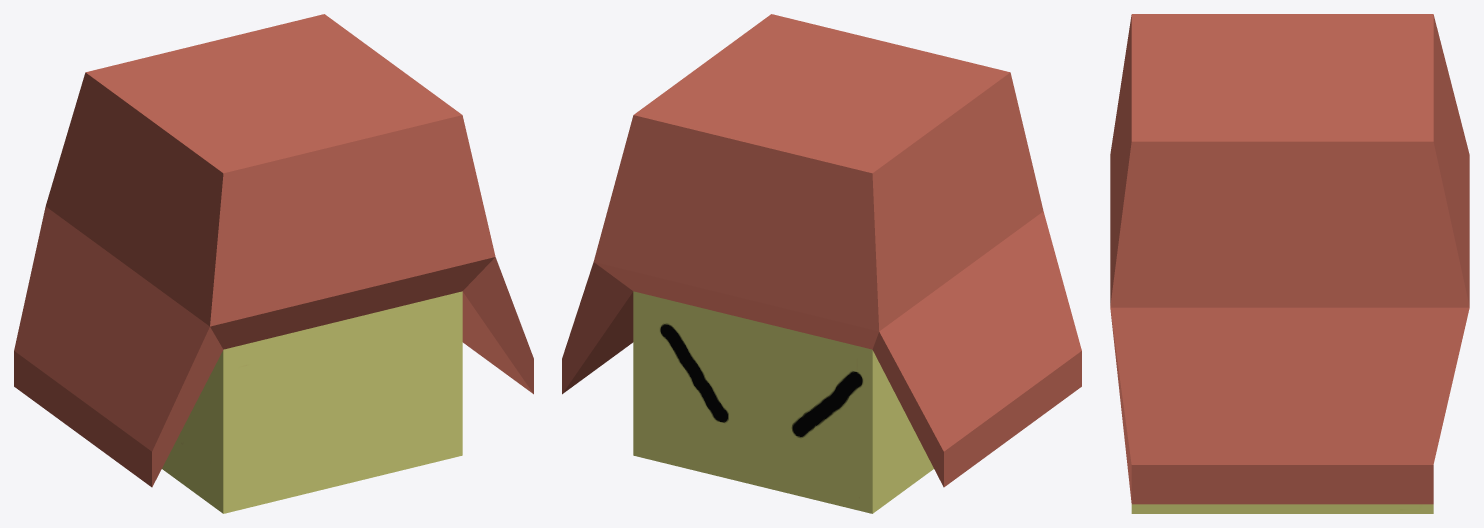
The model's file is enemy.obj.
The picture shows the model from 3 angles, left to right: view 1: azimuth 30°, elevation 25°; view 2: azimuth 150°, elevation 25°; view 3: azimuth 270°, elevation 25°; orthographic projection. The views are drawn at different scales.
Visible parts, largest first — view 1: 立方体; view 2: 立方体; view 3: 立方体.
Part boxes in pixels (box(x1,y1,x2,y2)): 立方体: box(14, 14, 533, 513); 立方体: box(562, 14, 1081, 513); 立方体: box(1110, 14, 1469, 513).
Bounding box in the file's own units: 3.19 × 2.72 × 2.38.
